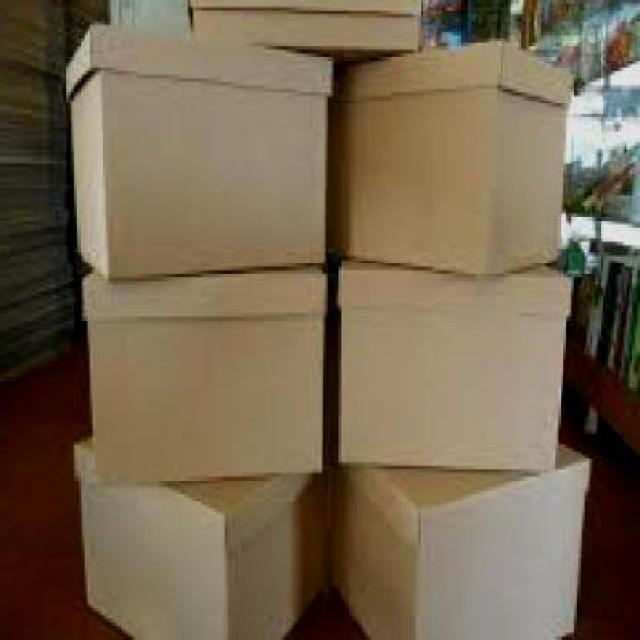box: (58, 18, 336, 278), (338, 38, 582, 296), (59, 430, 338, 636), (72, 270, 328, 487), (333, 249, 572, 480), (336, 466, 601, 636), (177, 0, 431, 65)
